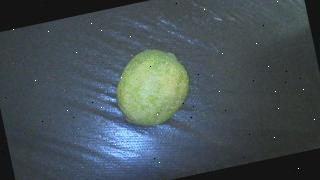DESECHO: (109, 43, 197, 132)
